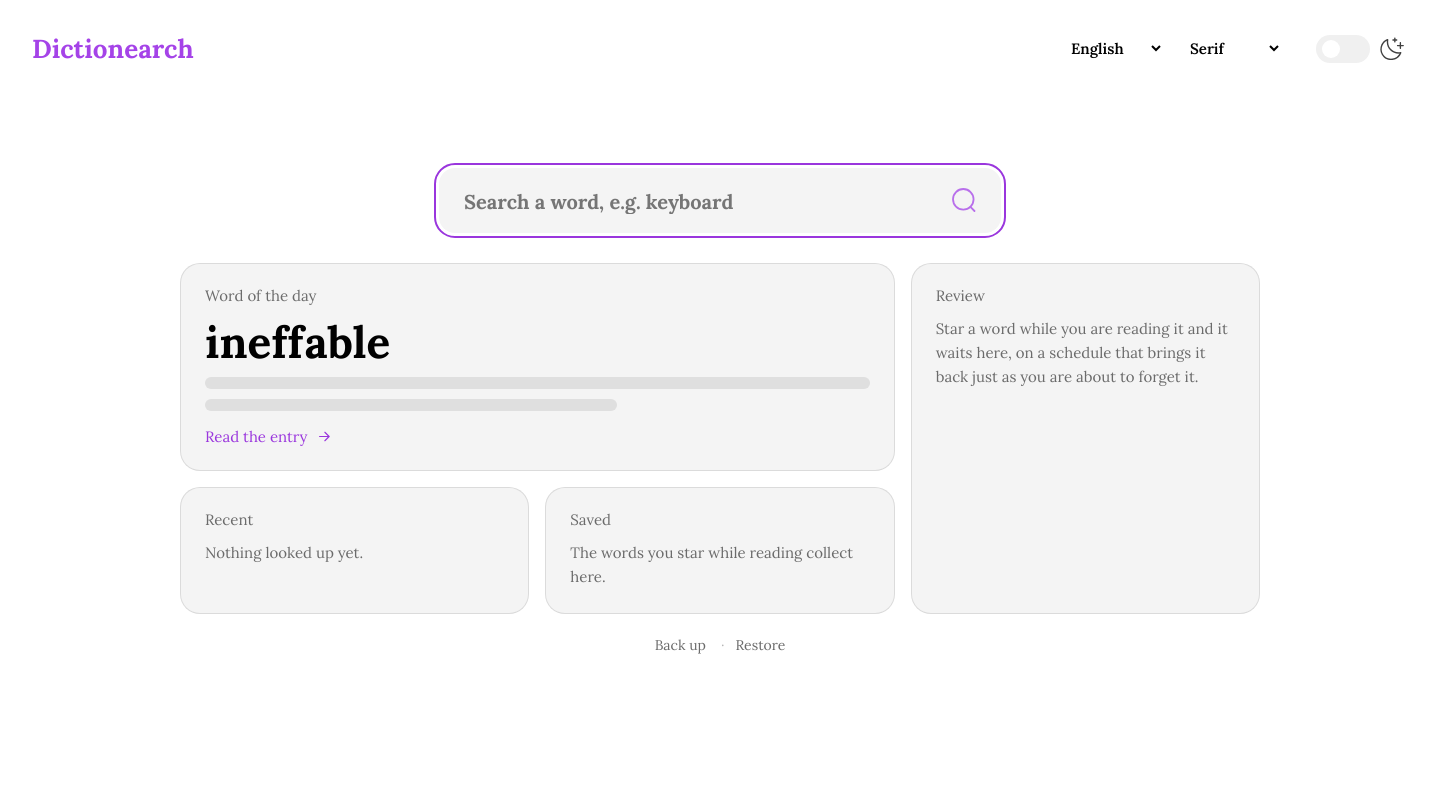
Test: says so when the browser refuses to play a recording
The image size is (1440, 810).
Step 1. Type "keyboard" into the dropdown named "Search for a word" → (684, 200), box x1=440 y1=169 x2=928 y2=232
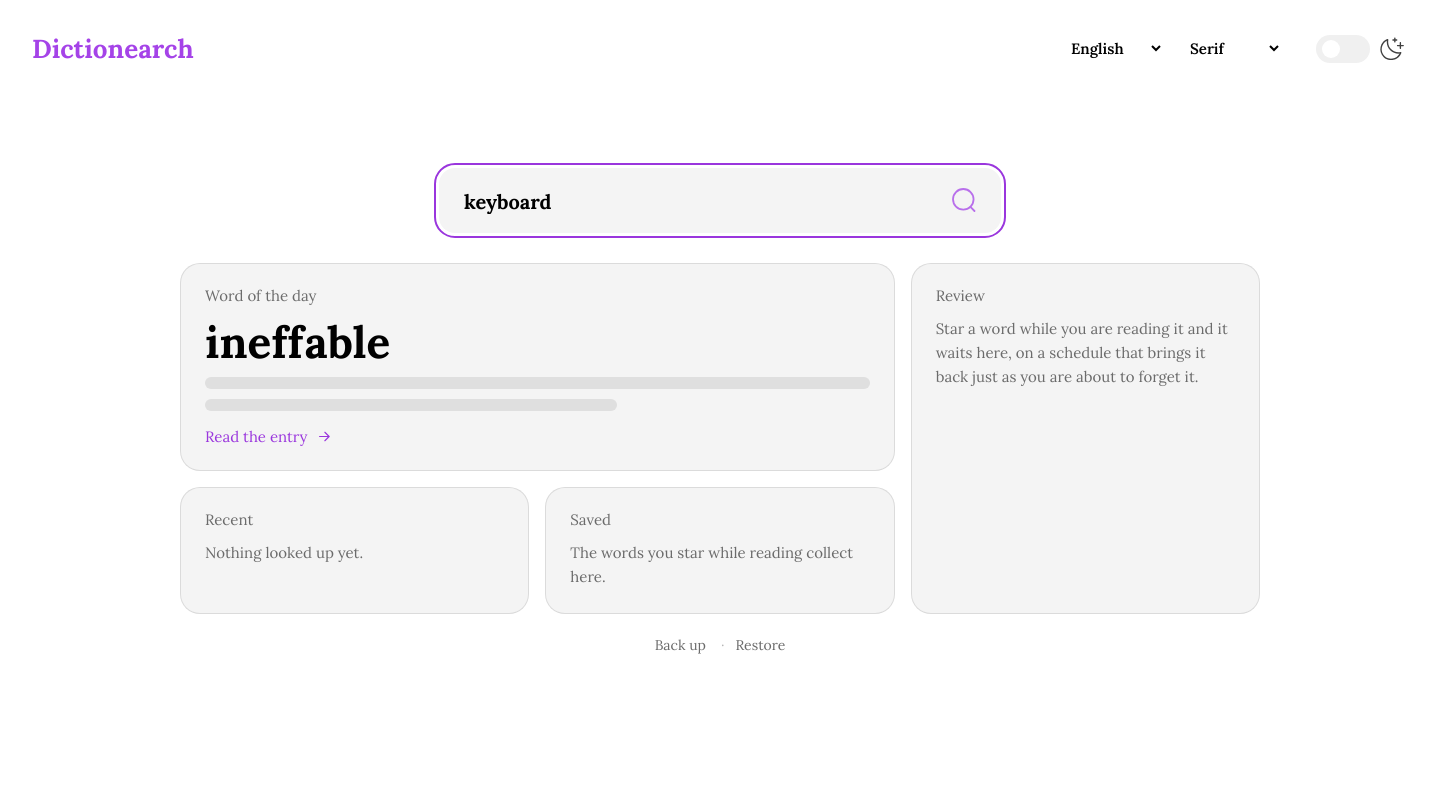
Step 2. Submit the form named "Search for a word", box x1=439 y1=168 x2=1001 y2=233
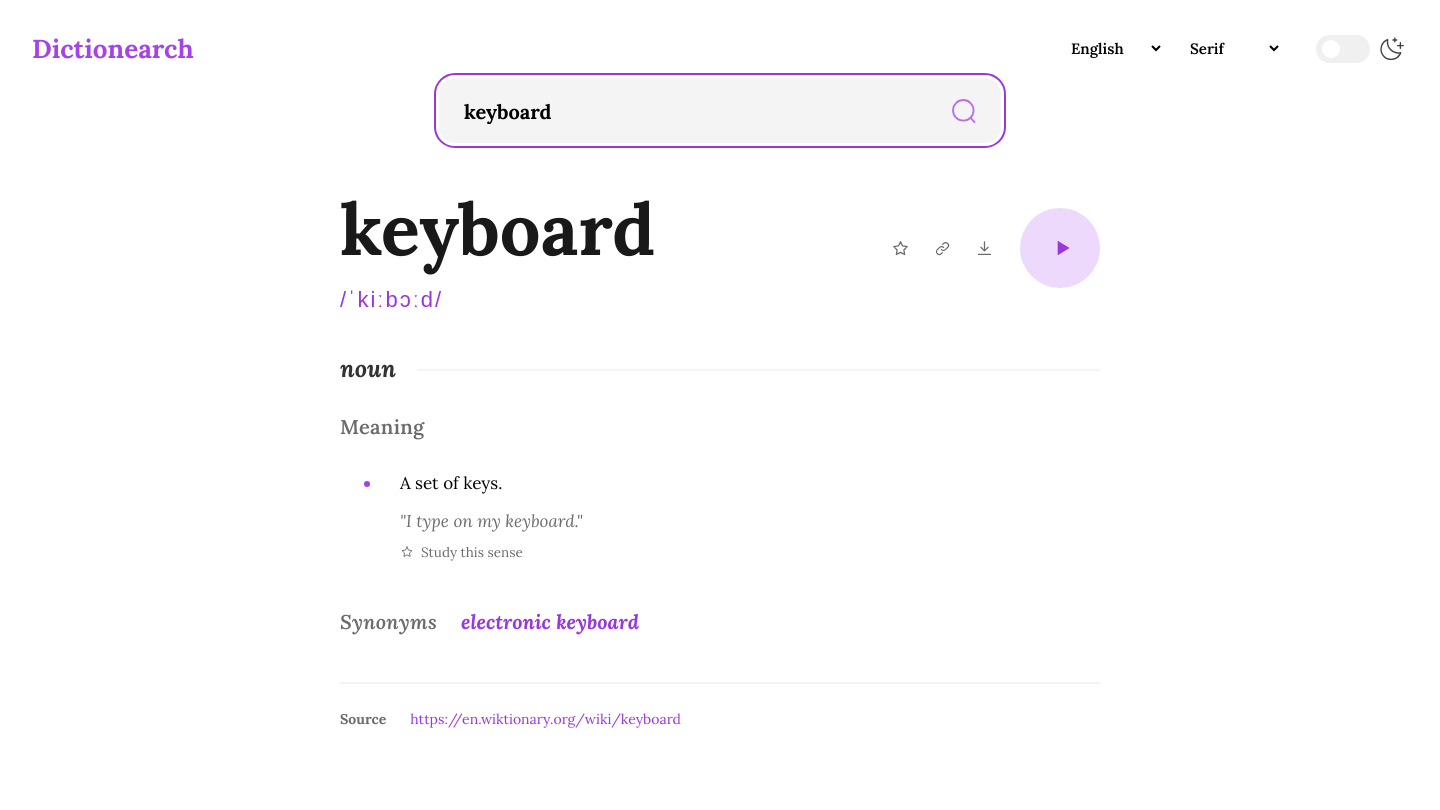
Check: the heading "keyboard" is shown, box x1=340 y1=183 x2=655 y2=275
Step 3. Click the button named "Play pronunciation" → (1060, 248), box x1=1020 y1=208 x2=1100 y2=288
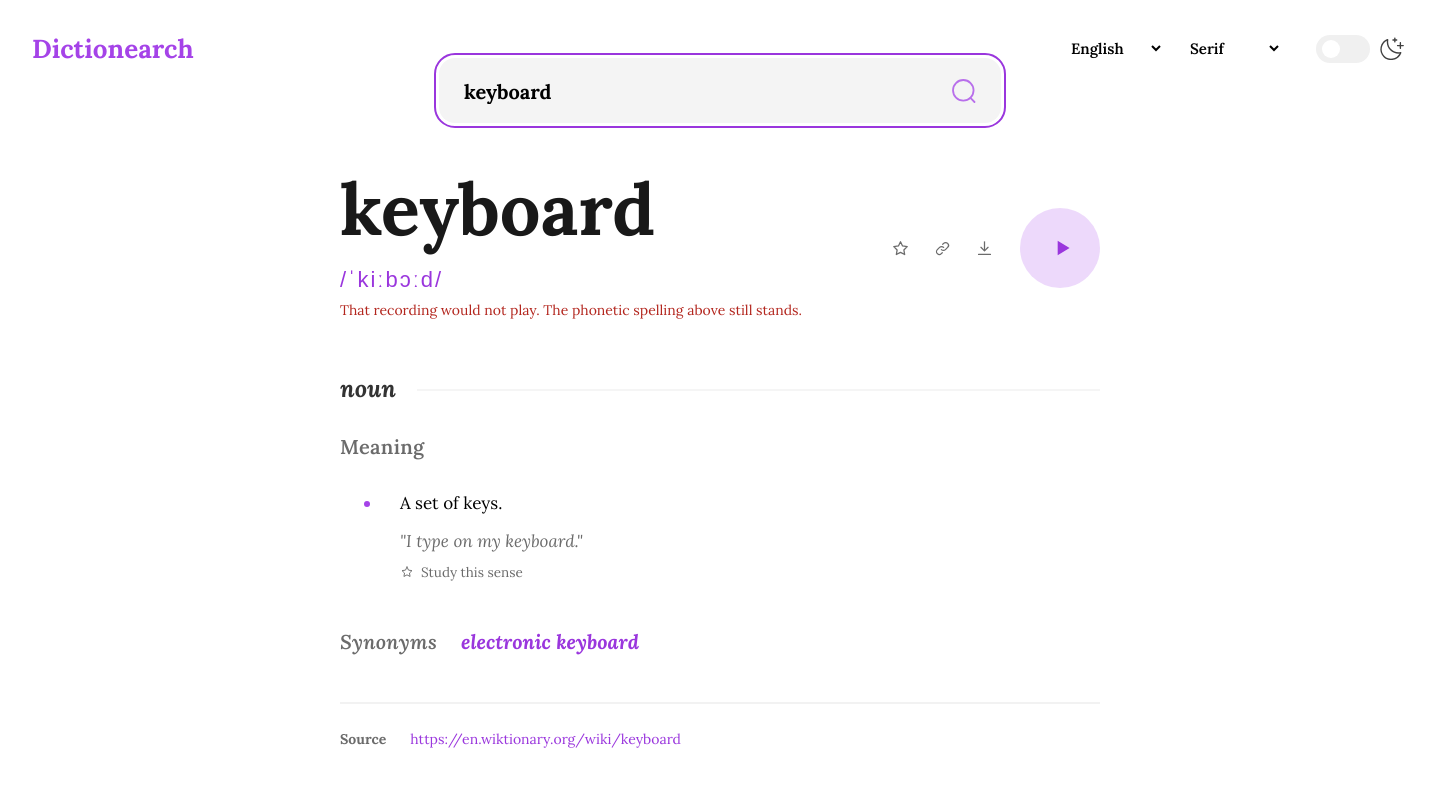
Check: the text "/ˈkiːbɔːd/" is shown, box x1=340 y1=267 x2=443 y2=293
Check: the text "That recording would not play. The phonetic spelling above still stands." is shown, box x1=340 y1=301 x2=802 y2=319
